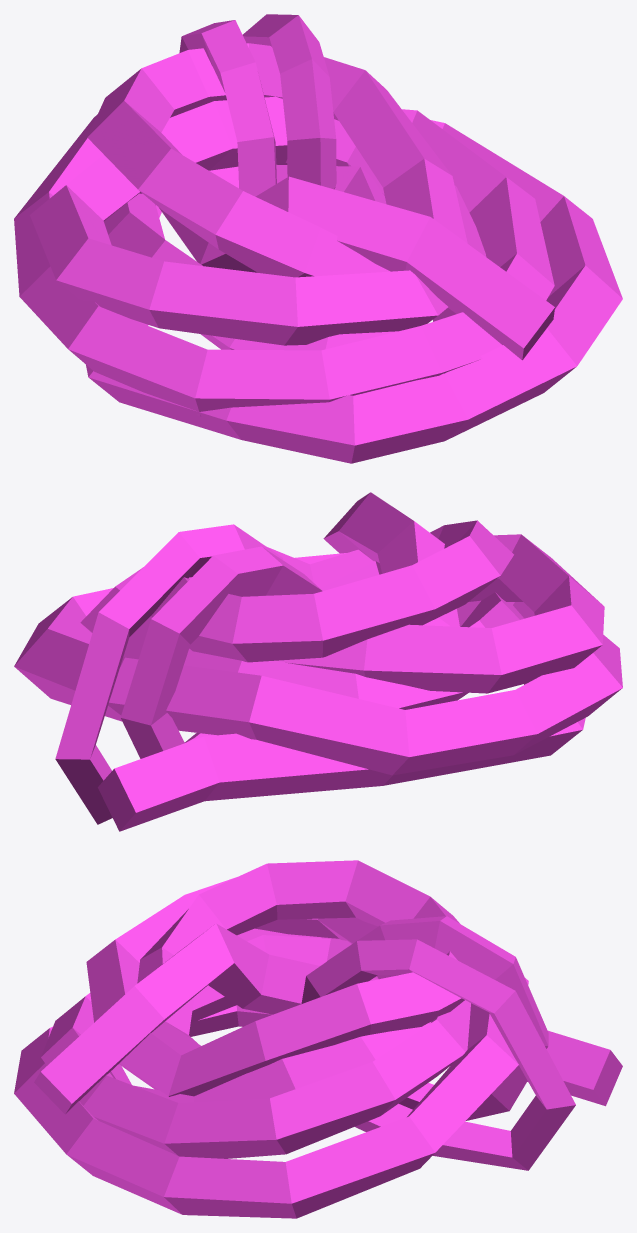
Rendered from SM_Rope_Floor_Fantasy.fbx.
3 renders of one model, top to bottom at view 1: azimuth 30°, elevation 25°; view 2: azimuth 150°, elevation 25°; view 3: azimuth 270°, elevation 25°, orthographic. The views are drawn at different scales.
Parts seen in each view (by area): view 1: SM_Rope_Floor_Fantasy; view 2: SM_Rope_Floor_Fantasy; view 3: SM_Rope_Floor_Fantasy.
Part boxes in pixels (left/top/right/bottom): SM_Rope_Floor_Fantasy: left=14, top=14, right=622, bottom=463; SM_Rope_Floor_Fantasy: left=14, top=492, right=622, bottom=831; SM_Rope_Floor_Fantasy: left=14, top=860, right=622, bottom=1218.
Bounding box in the file's own units: 0.8757 × 0.3876 × 0.9568.
